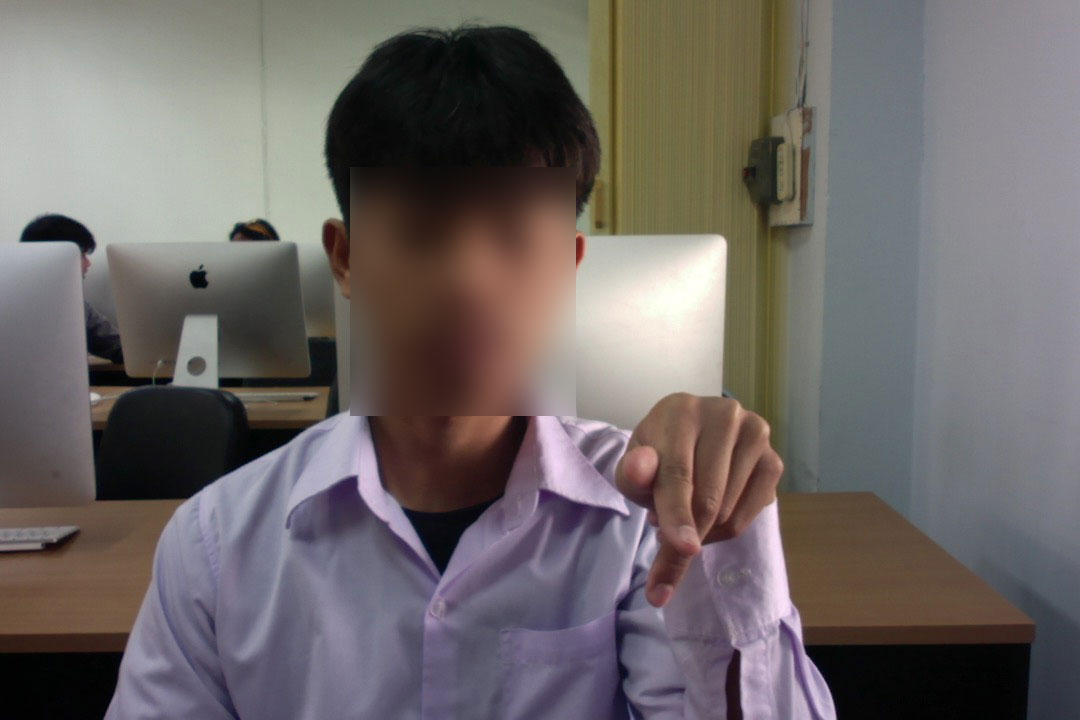por: (600, 382, 791, 614)
